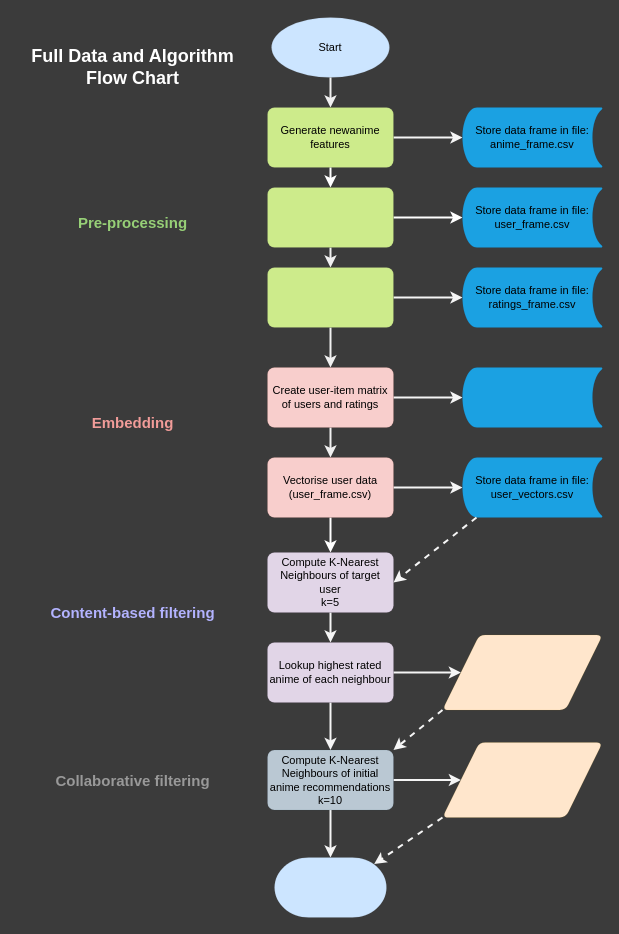
This 619x934 diagram has some shape labels left out. The centre of each missing label's shape, as x and y in pixels:
Additional anime recommendations generated: point 522,779
End: point 330,887
Generate newuser features: point 330,217
Initial anime recommendations generated: point 522,672
Merge anime and ratings dataframes: point 330,297
Store data frame in file: collab_scores.csv: point 532,397
